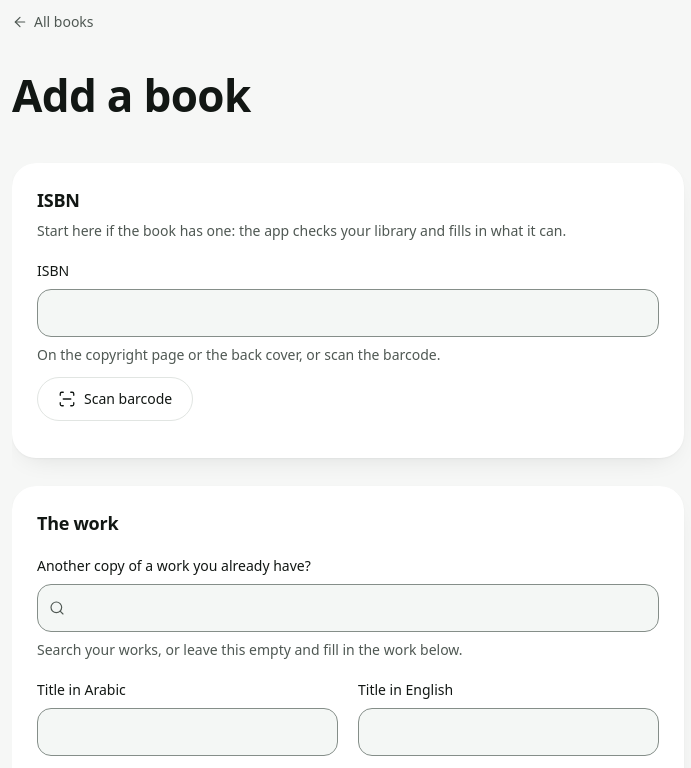
Test: BookFormPage › "You already have this" › names the copies you have of the ISBN you type, with a link to each
Type "ISBN 978-0-306-40615-7" into the field labelled "ISBN" at [348, 313], box [37, 289, 659, 337]
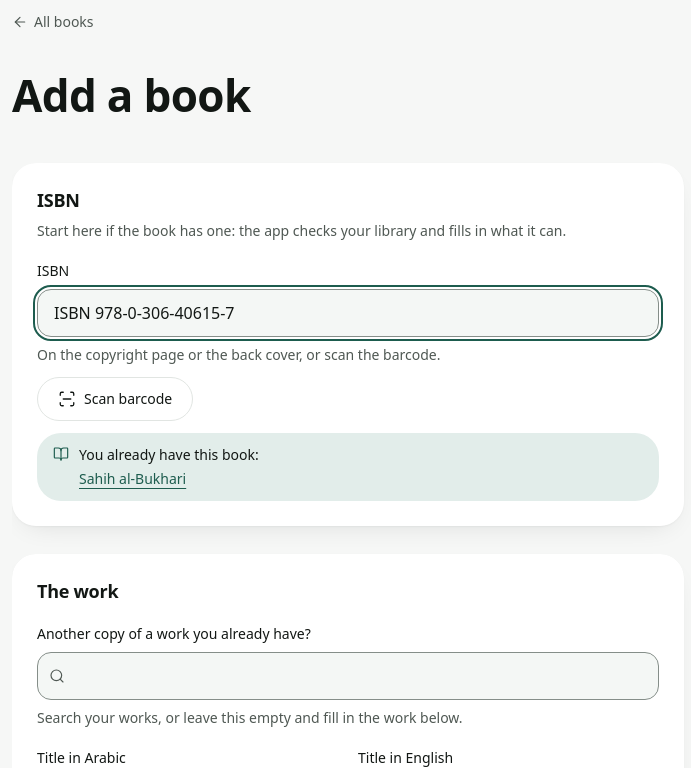
Result: the text "You already have this book:" is shown at [79, 445, 259, 465]
